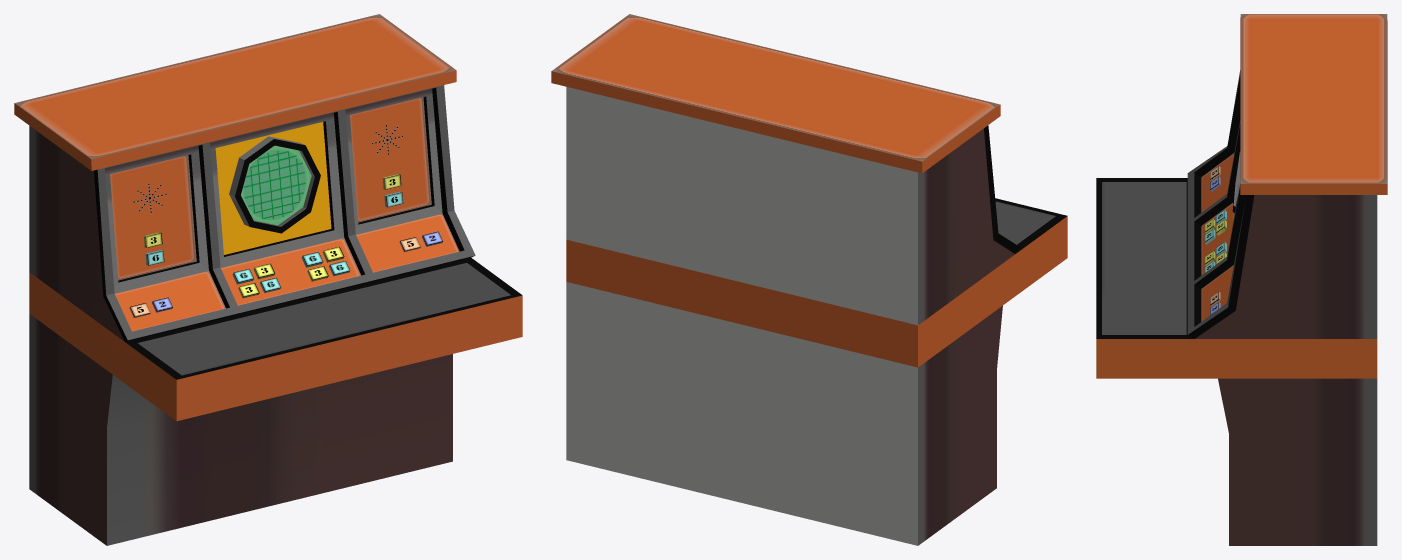
Rendered from Spy_Console.fbx.
3 renders of one model, left to right at view 1: azimuth 30°, elevation 25°; view 2: azimuth 150°, elevation 25°; view 3: azimuth 270°, elevation 25°, orthographic. The views are drawn at different scales.
Parts seen in each view (by area): view 1: pCylinder7; view 2: pCylinder7; view 3: pCylinder7.
Part boxes in pixels (<box>): pCylinder7: <box>14,14,522,545</box>; pCylinder7: <box>551,14,1067,545</box>; pCylinder7: <box>1096,14,1387,545</box>.
Size of the model in its own units: 144 by 145 by 105.
